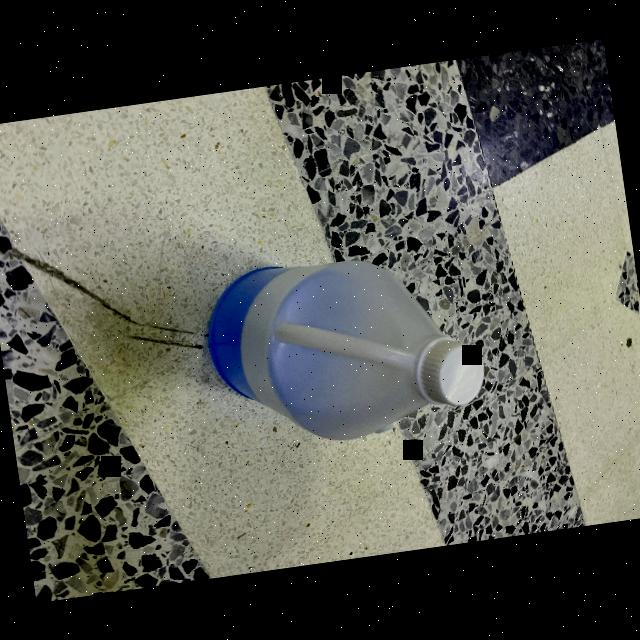chemical_plastic_gallon: (196, 234, 498, 462)
